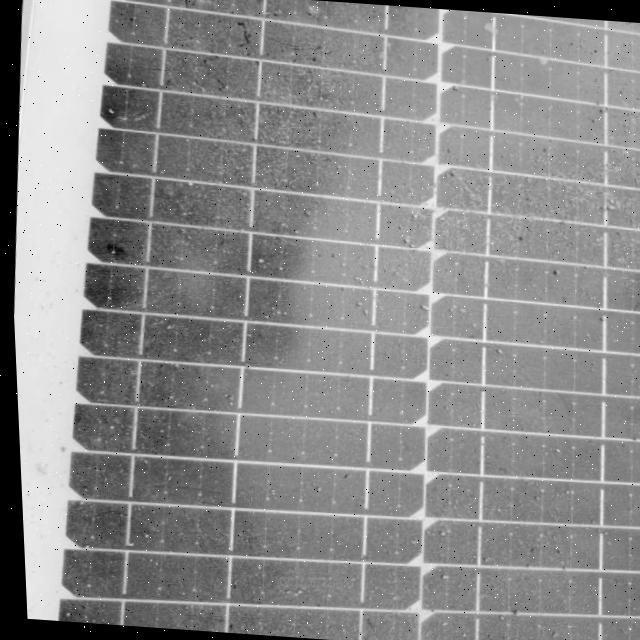Surface Contaminant: (68, 0, 640, 640)
